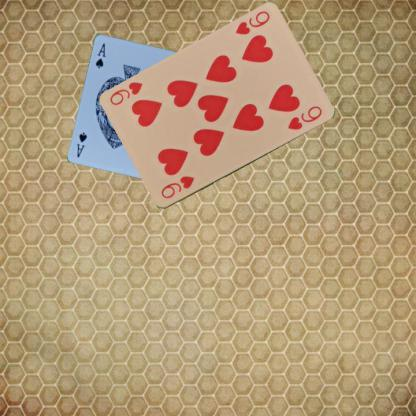9h: (232, 9, 271, 37), (158, 174, 196, 200)
As: (93, 40, 106, 69)
